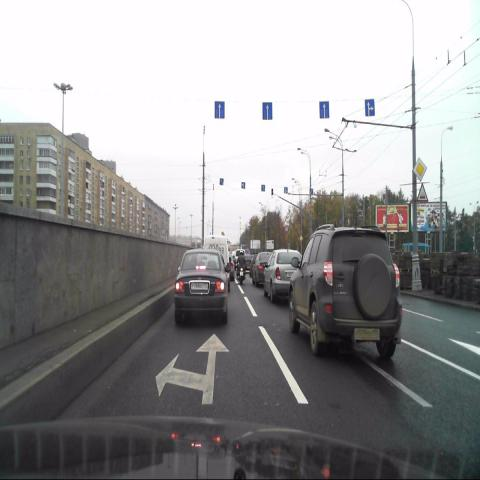1_5: (416, 183, 428, 202)
